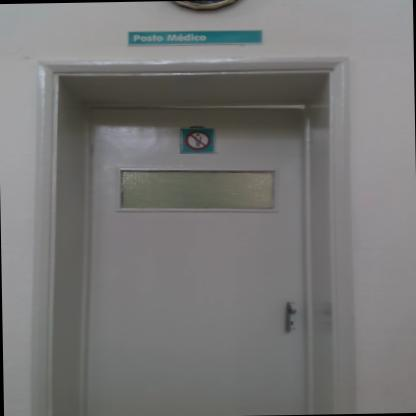closed: (38, 44, 368, 416)
